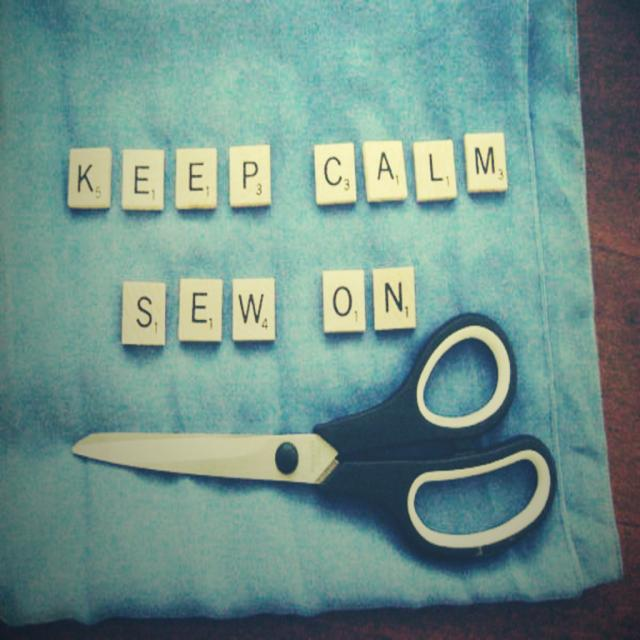scissors: (71, 311, 557, 557)
